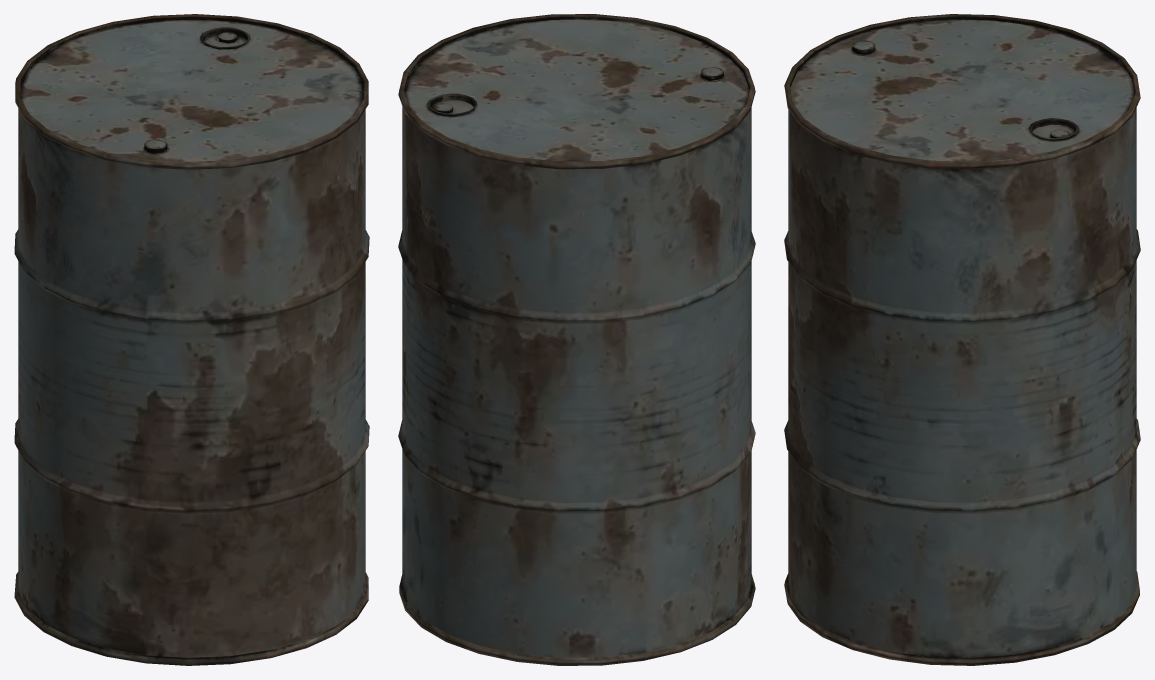
The model's file is barrel.glb.
3 renders of one model, left to right at view 1: azimuth 30°, elevation 25°; view 2: azimuth 150°, elevation 25°; view 3: azimuth 270°, elevation 25°, orthographic.
Parts seen in each view (by area): view 1: Barrel_01; view 2: Barrel_01; view 3: Barrel_01.
Boxes of the visible parts, bbox=[...] form: Barrel_01: bbox=[14, 14, 369, 665]; Barrel_01: bbox=[398, 14, 755, 665]; Barrel_01: bbox=[784, 14, 1140, 665].
Bounding box in the file's own units: 0.5629 × 0.88 × 0.5631.
Materials: 1 (1 with a texture image).
